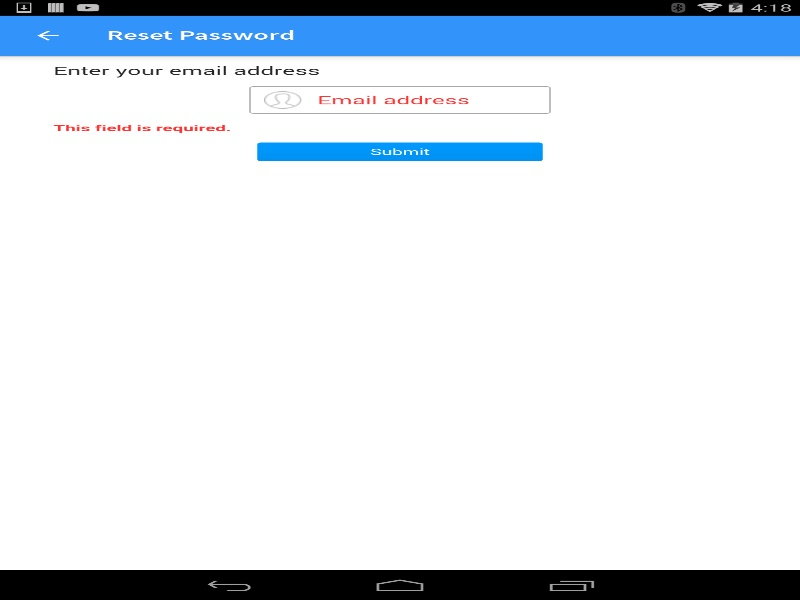Button: (257, 142, 542, 161), (10, 15, 85, 55)
Input: (249, 86, 550, 113)
